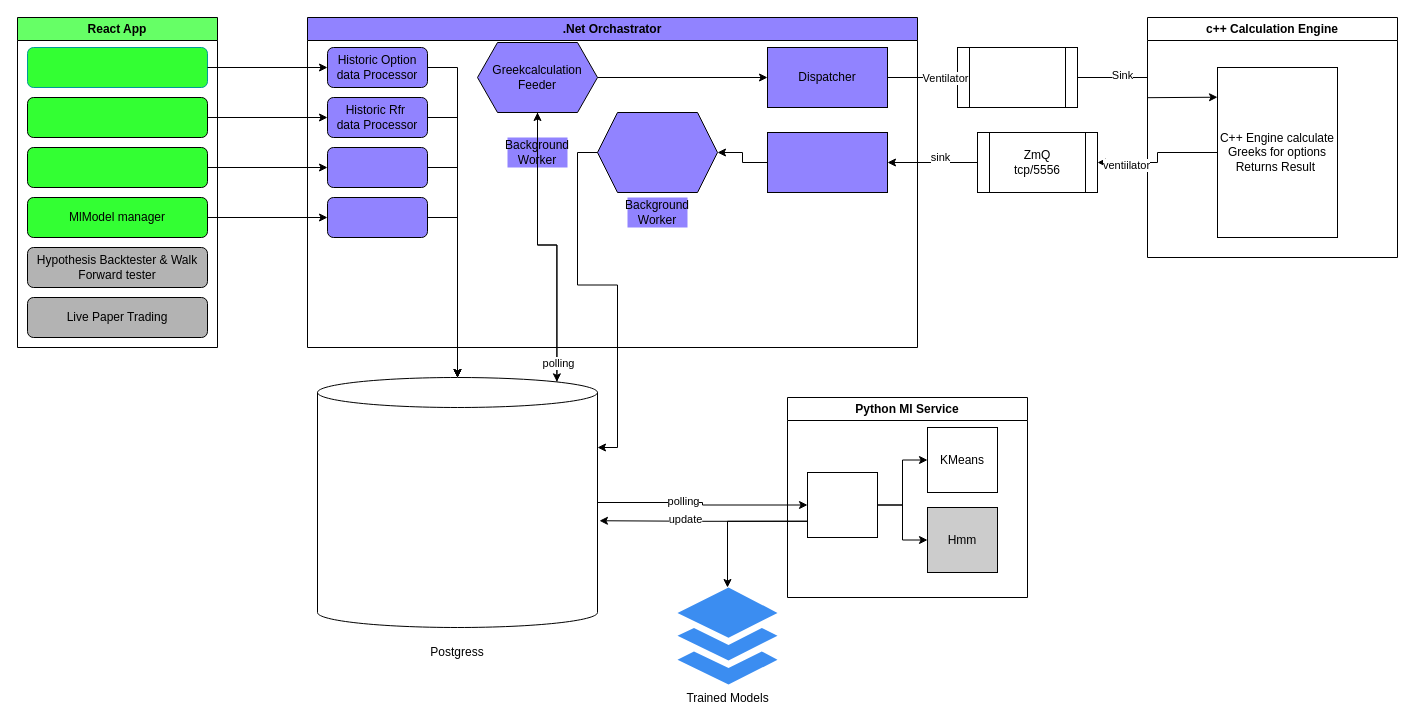
Image size: 1415x723. Some labels were removed from this diagram. The shapes that lost their labels are listed below. From the top down, each one's centre as x and y in pixels, then its label:
At (117,67): "Option Data Feeder".
At (1017,77): "ZmQ tcp/5555".
At (117,117): "RFR Data Feeder".
At (117,167): "Option Basket Visualizor".
At (377,167): "Option Visualizatio Service".
At (657,152): "Greekcalculation Collector".
At (827,162): "Receiver".
At (377,217): "Ml Manager".
At (842,505): "orchastrator".
